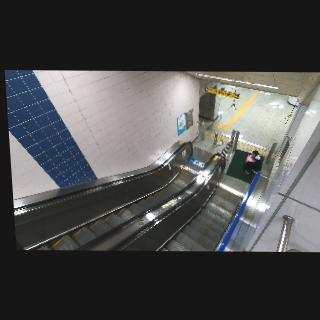anomaly: (241, 149, 263, 177)
